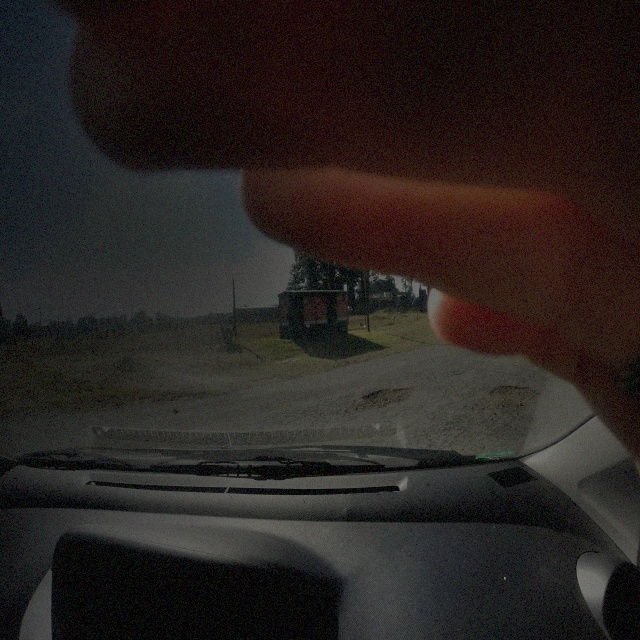pothole: (488, 383, 540, 407), (361, 388, 412, 404)
